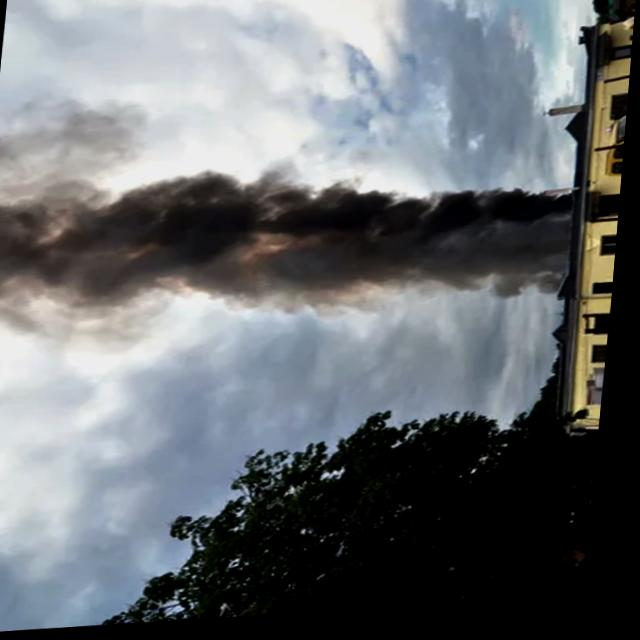no_helmet: (0, 139, 587, 345)
